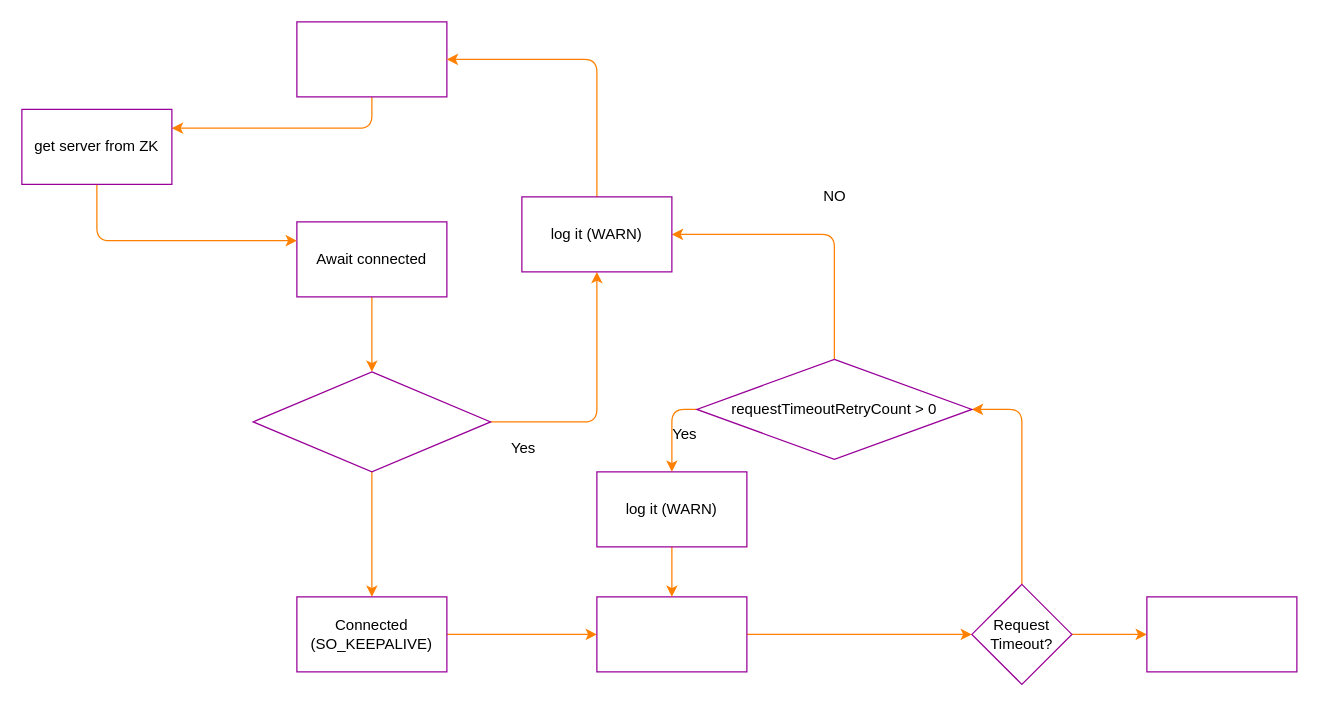
The diagram is 1319 pixels wide and 706 high, and some of its shapes have lost their labels. Each missing label, with the box of its shape:
ConnectionTimeout?: (252, 371, 491, 472)
Disconnected: (296, 21, 447, 97)
GetResponse: (1146, 596, 1297, 672)
SendRequest: (596, 596, 747, 672)
